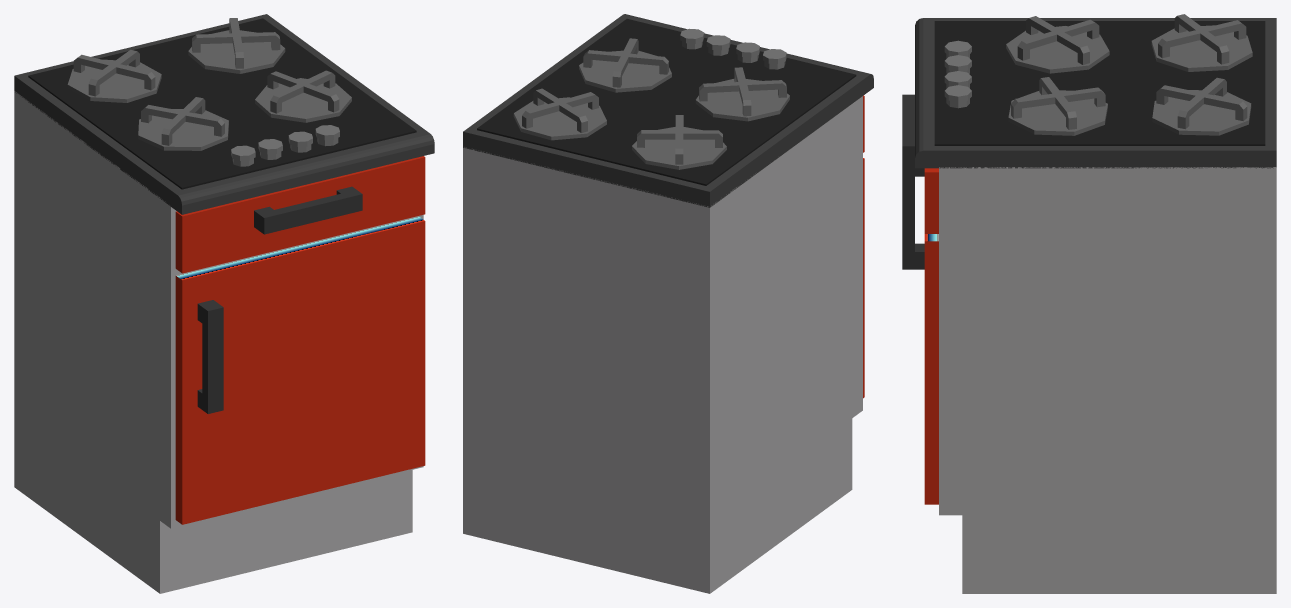
The model's file is Herd.fbx.
3 renders of one model, left to right at view 1: azimuth 30°, elevation 25°; view 2: azimuth 150°, elevation 25°; view 3: azimuth 270°, elevation 25°, orthographic. The views are drawn at different scales.
Visible parts, largest first — view 1: Cube.017; view 2: Cube.017; view 3: Cube.017.
Part boxes in pixels (box(x1,y1,x2,y2)): Cube.017: box(14, 14, 434, 593); Cube.017: box(463, 14, 873, 593); Cube.017: box(902, 14, 1276, 593).
Size of the model in its own units: 104 by 169 by 123.
